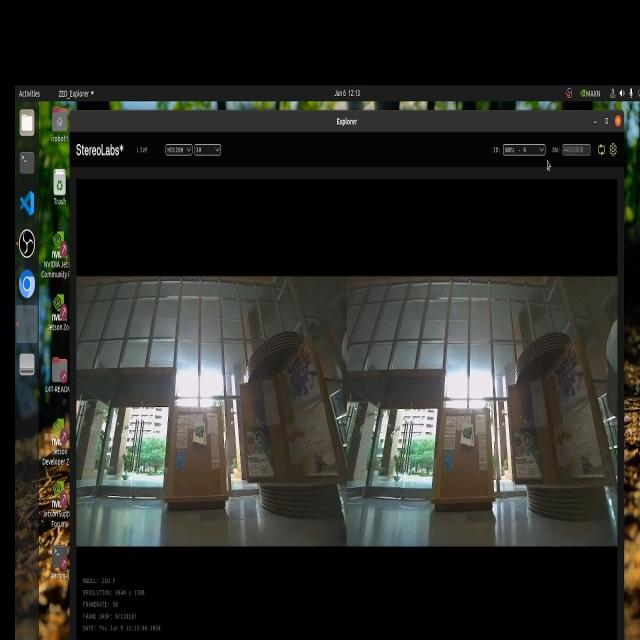green: (197, 422, 210, 446), (465, 429, 478, 451)
